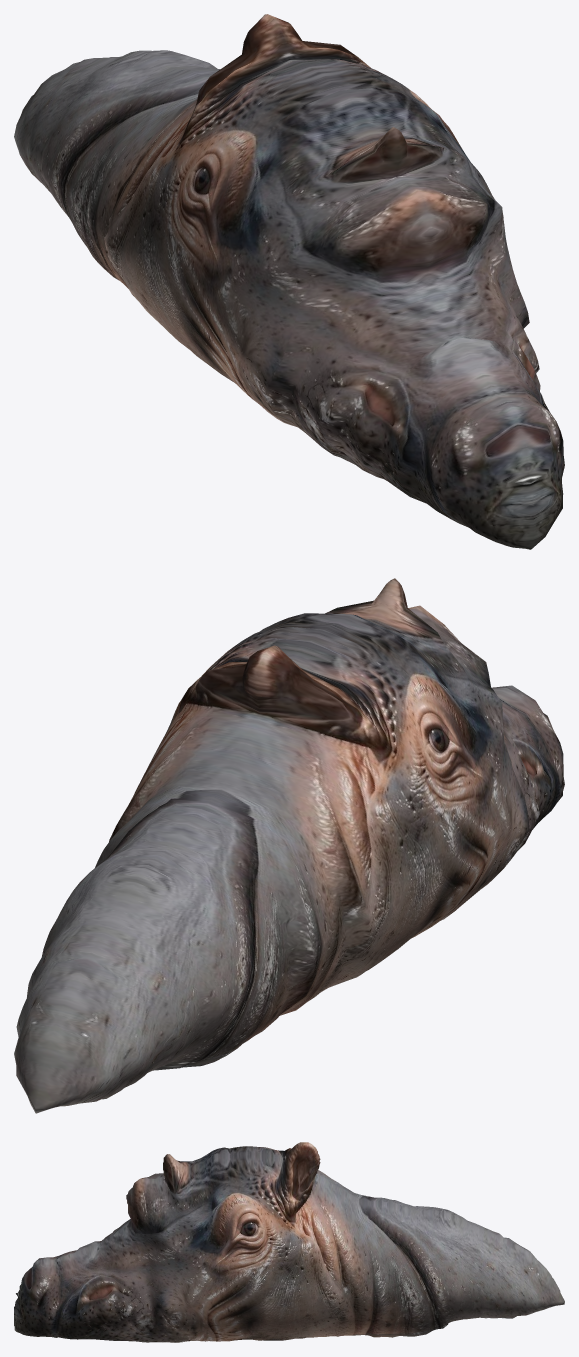
File: hippopotame.glb
3 views of the same model, one above another, from view 1: azimuth 30°, elevation 25°; view 2: azimuth 150°, elevation 25°; view 3: azimuth 270°, elevation 25° (orthographic). The views are drawn at different scales.
Visible parts, largest first — view 1: hippopotame; view 2: hippopotame; view 3: hippopotame.
Part boxes in pixels (<box>): hippopotame: <box>14,14,564,549</box>; hippopotame: <box>14,578,564,1113</box>; hippopotame: <box>14,1142,564,1342</box>.
Size of the model in its own units: 1.15 by 1.4 by 3.6.
1 material, 1 textured.
